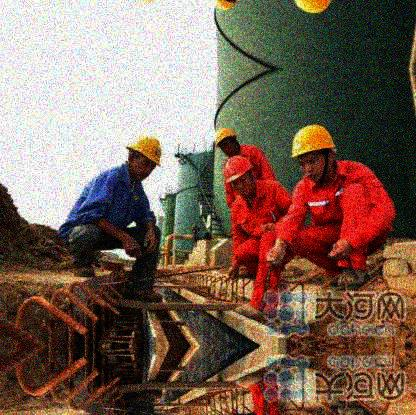helmet: (290, 123, 335, 184), (125, 134, 161, 180), (225, 155, 253, 195), (215, 127, 238, 156)
